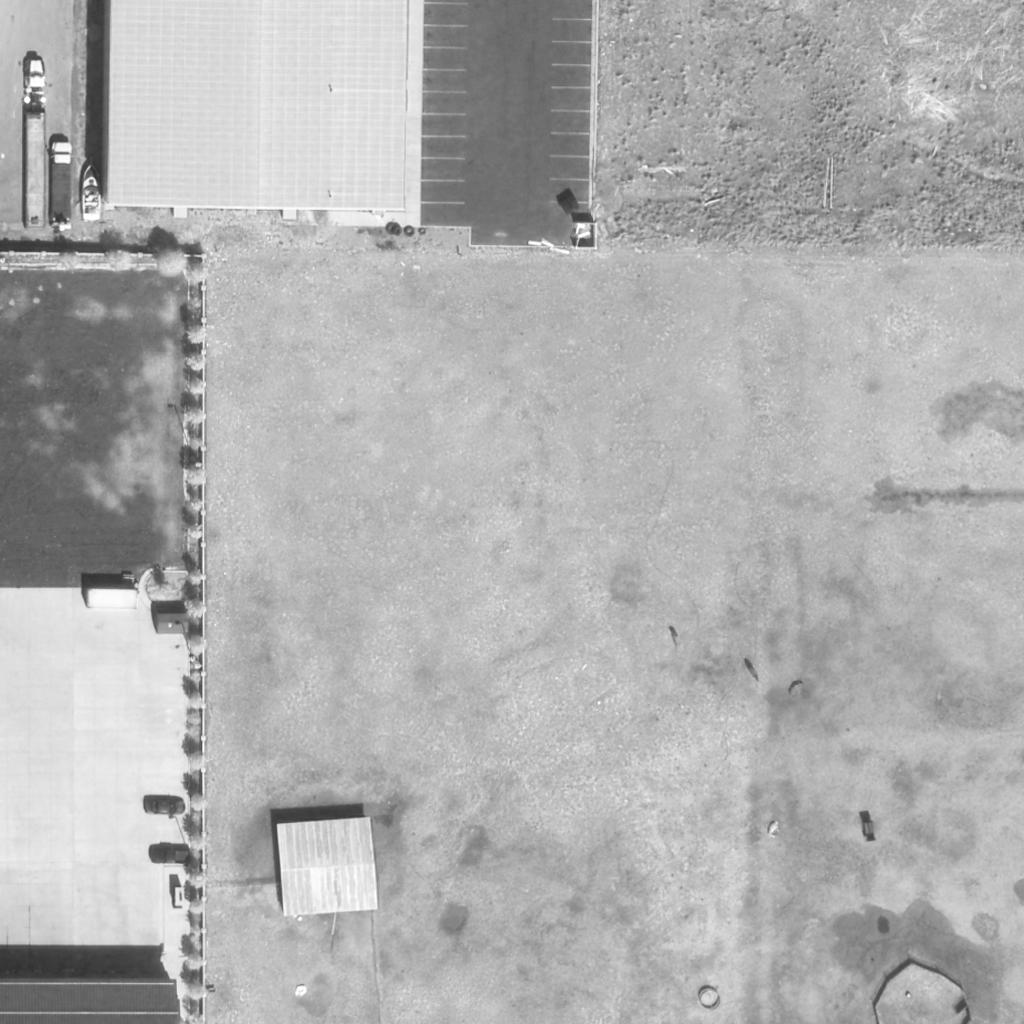vehicle: (23, 57, 47, 229), (51, 141, 73, 231), (82, 160, 102, 222), (143, 797, 187, 815), (150, 847, 192, 865)
